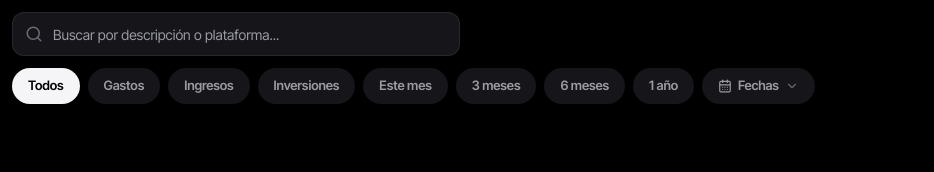
SearchFilter › sets from/to for a period preset
The image size is (934, 172).
Click the button "Este mes" at (406, 86), box [363, 68, 448, 104]
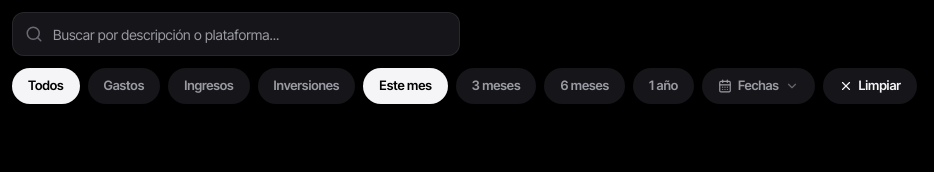
Now the button "Este mes" is pressed, box [363, 68, 448, 104]
